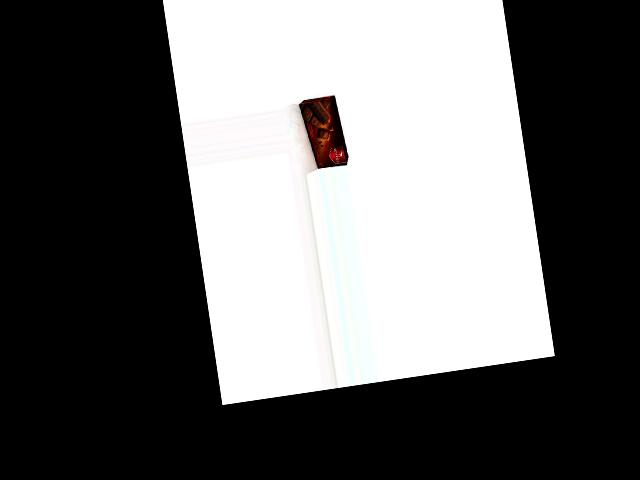chocolate: (297, 95, 350, 171)
